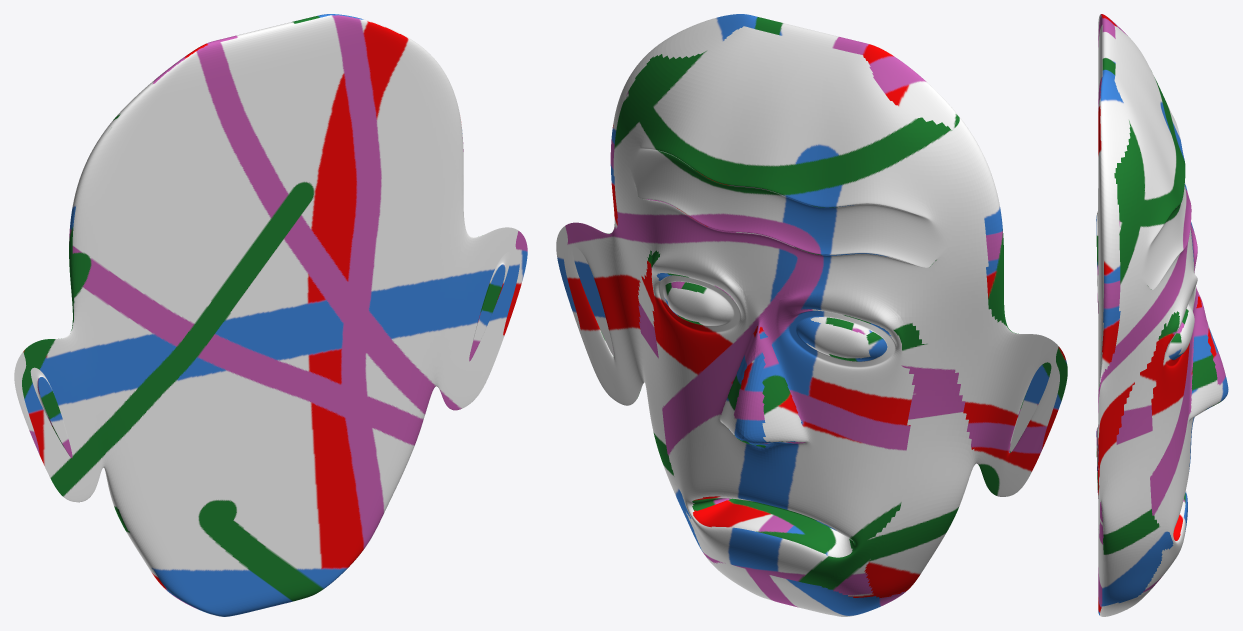
The model's file is gesicht.glb.
3 views of the same model, side by side, from view 1: azimuth 30°, elevation 25°; view 2: azimuth 150°, elevation 25°; view 3: azimuth 270°, elevation 25° (orthographic). The views are drawn at different scales.
Parts seen in each view (by area): view 1: Plane; view 2: Plane; view 3: Plane.
Boxes of the visible parts, <box> form: Plane: <box>14,14,527,616</box>; Plane: <box>556,14,1067,616</box>; Plane: <box>1096,14,1228,616</box>.
Bounding box in the file's own units: 1.43 × 1.54 × 0.334.
Materials: 1 (1 with a texture image).
